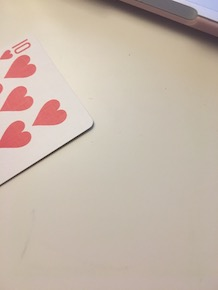TenOfHearts: (1, 28, 97, 185)
